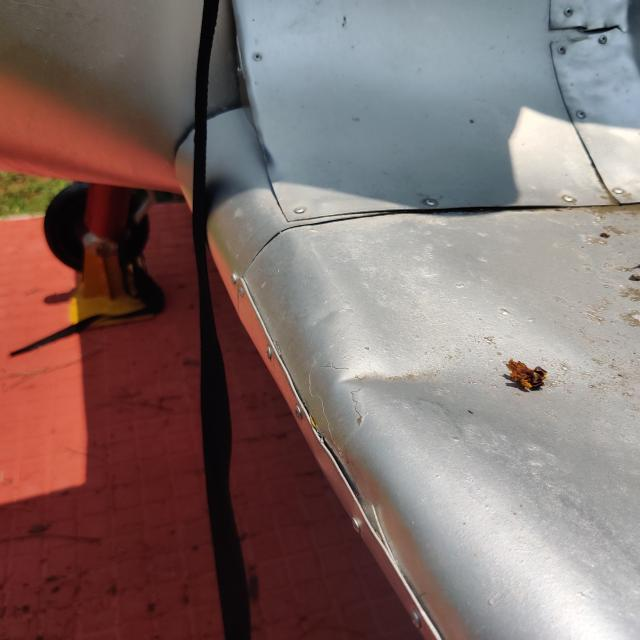crack: (546, 12, 637, 63)
dent: (332, 337, 453, 420)
